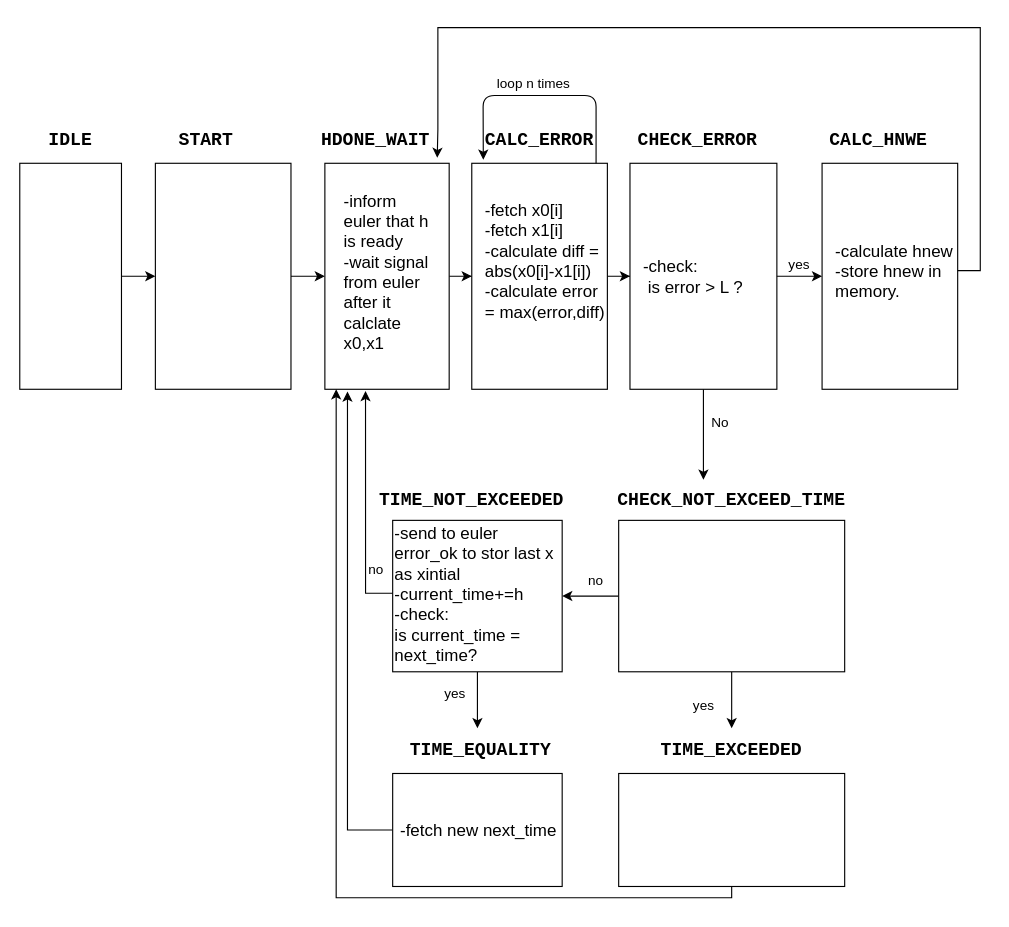
The diagram is 1009 pixels wide and 927 high, and some of its shapes have lost their labels. The shapes that lost their labels are listed below. From the top down, each one's centre as x and y in pixels, then its label:
At [222,275]: "-fetch h -fetch n -fetch error -fetch next_time -set current_time".
At [731,595]: "-check: is current_time+h > next_time?".
At [731,829]: "-set h = next_time - current_time -store h in memory".
